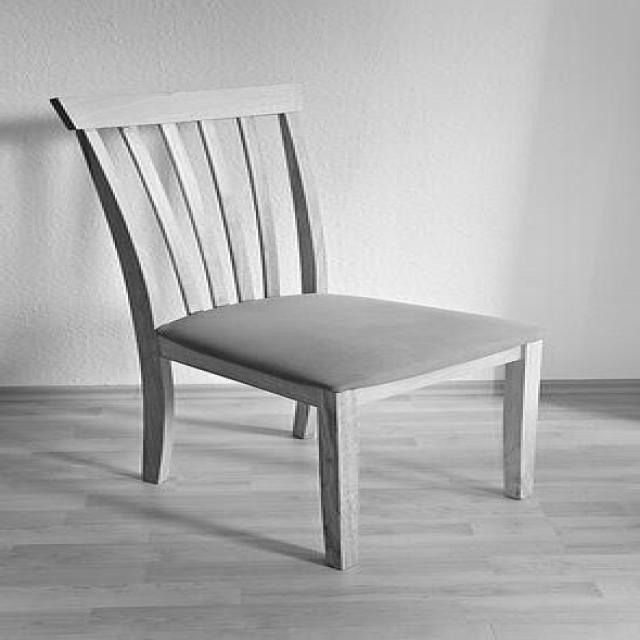chair: (43, 81, 543, 572)
